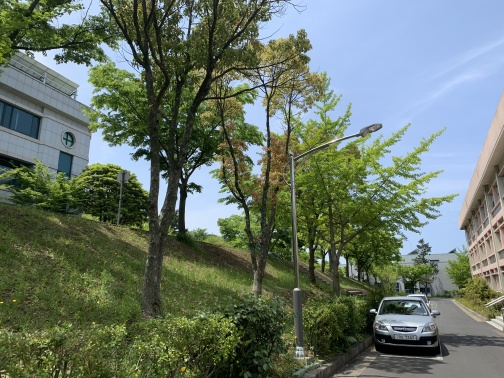College Of Education: (446, 81, 503, 365)
